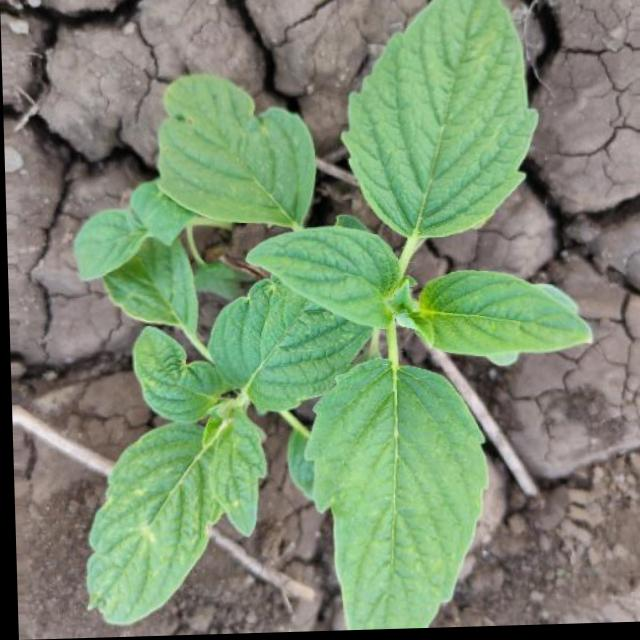crop: (55, 0, 601, 638)
